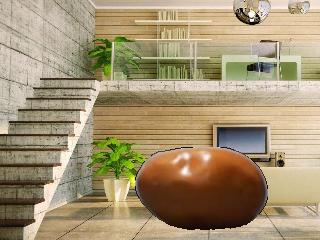potato: (136, 147, 266, 231)
